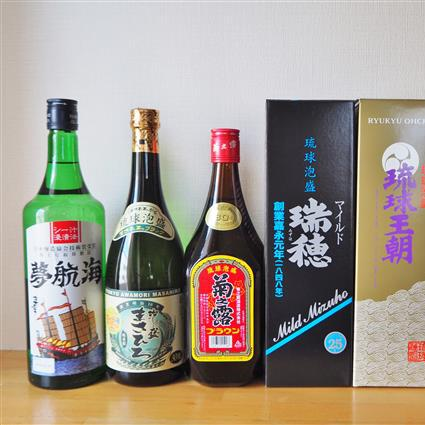soju: (19, 96, 113, 392)
